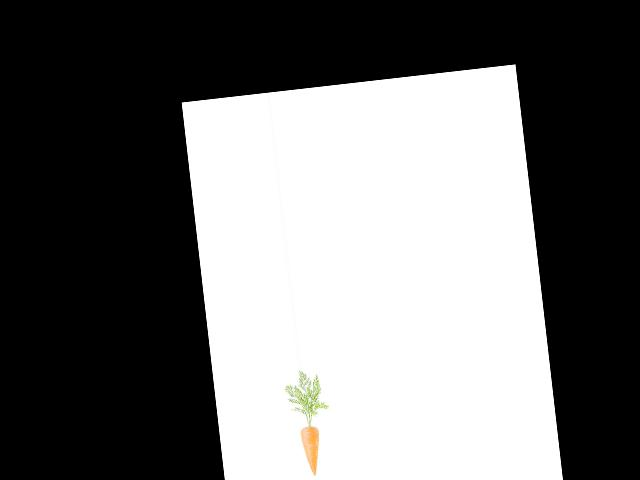carrot: (295, 422, 329, 478)
